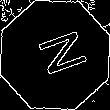N_W: (24, 28, 86, 82)
